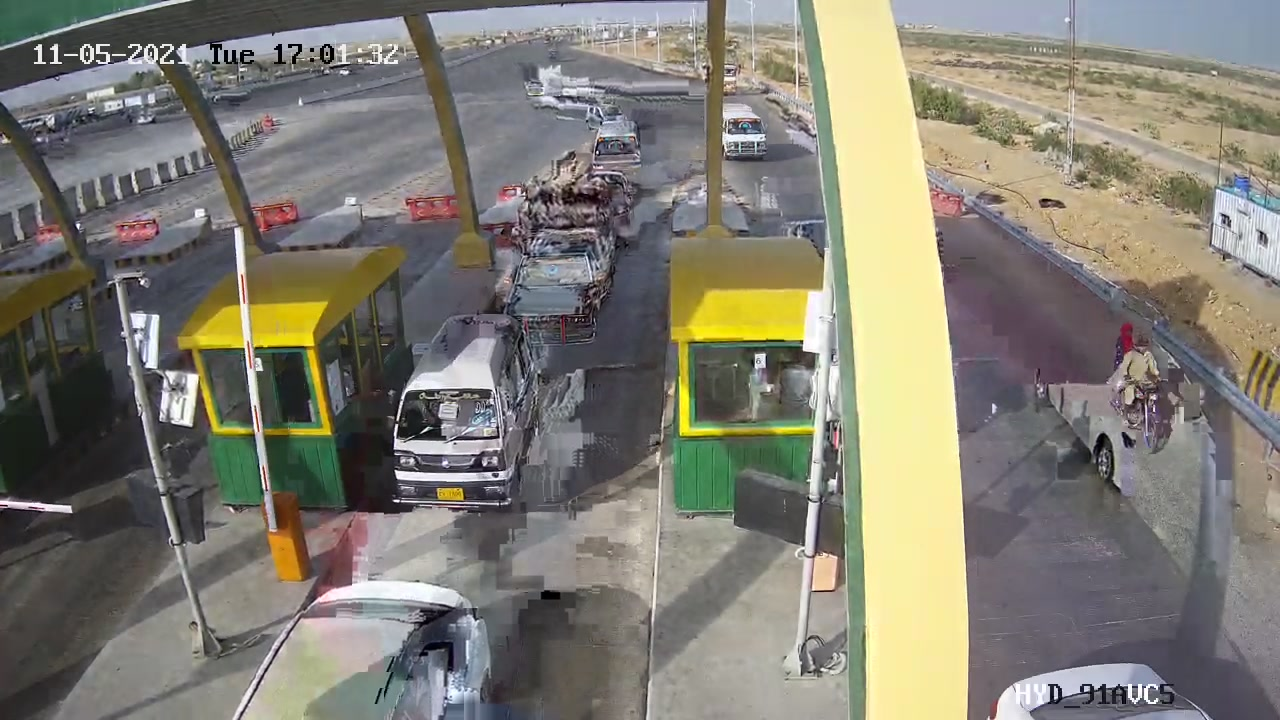F1: (374, 308, 559, 526)
